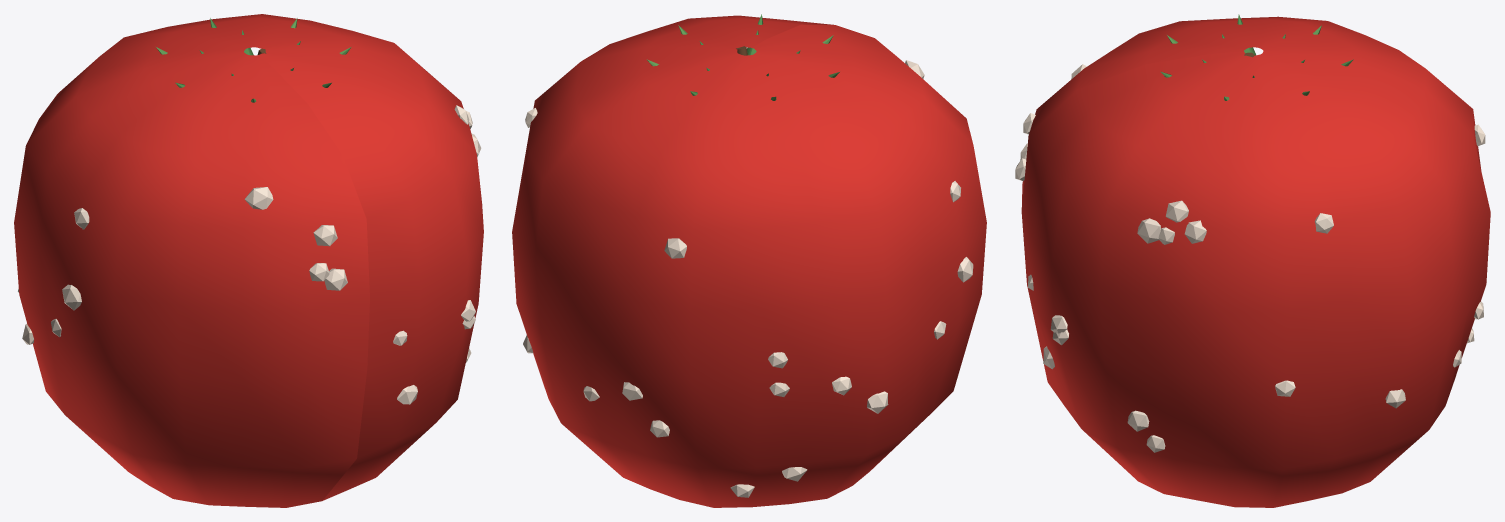
The model's file is strawberry.glb.
3 views of the same model, side by side, from view 1: azimuth 30°, elevation 25°; view 2: azimuth 150°, elevation 25°; view 3: azimuth 270°, elevation 25° (orthographic).
Visible parts, largest first — view 1: strawberry; view 2: strawberry; view 3: strawberry.
Boxes of the visible parts, box(x1,y1,x2,y2) form: strawberry: box(14, 14, 483, 507); strawberry: box(512, 14, 986, 507); strawberry: box(1015, 14, 1490, 507).
Size of the model in its own units: 0.9937 by 0.9781 by 0.9919.
